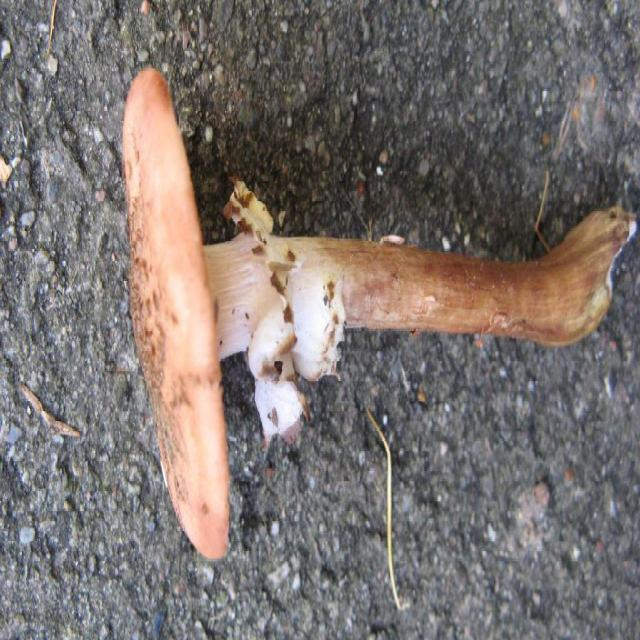Armillaria mellea: (123, 67, 636, 560)
